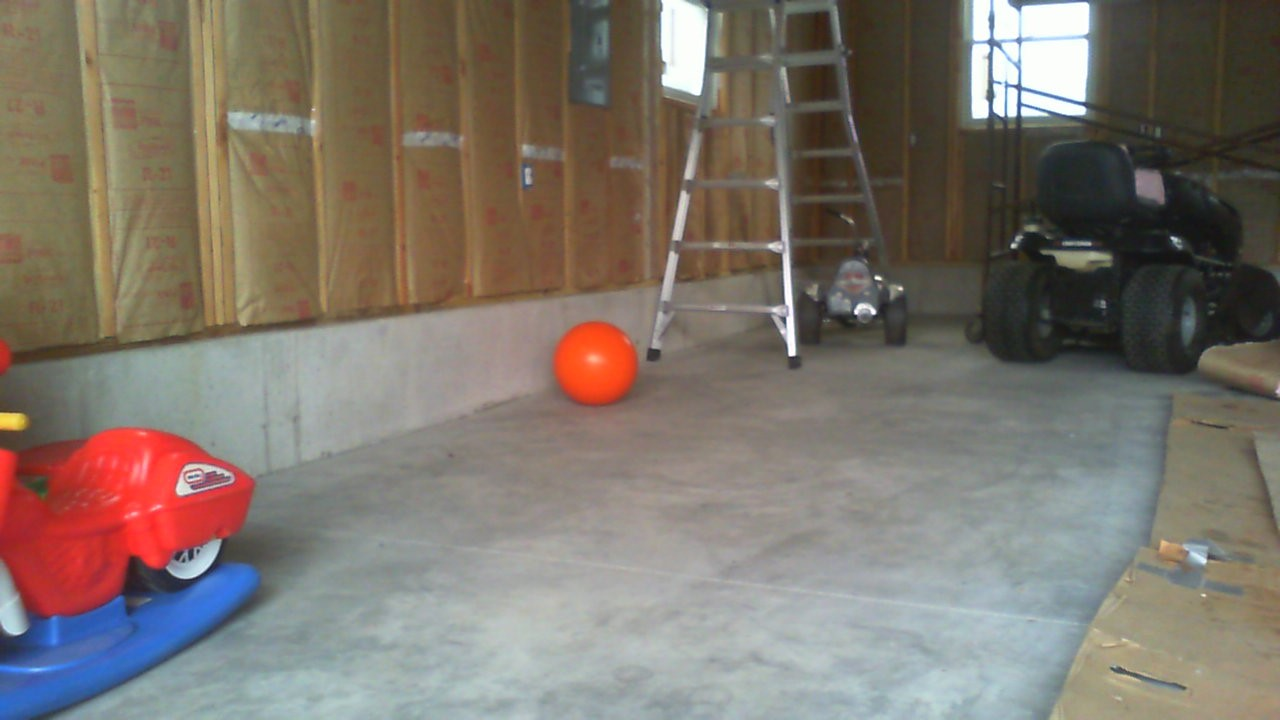Ball: (554, 322, 635, 403)
